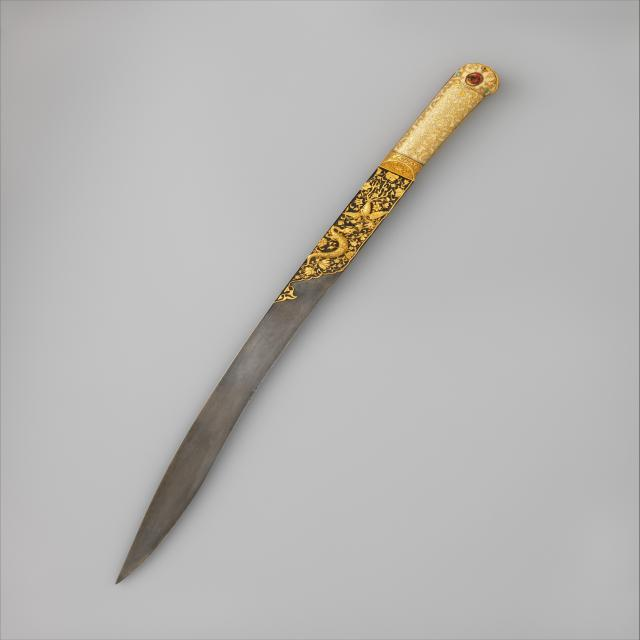short sword: (96, 50, 522, 592)
